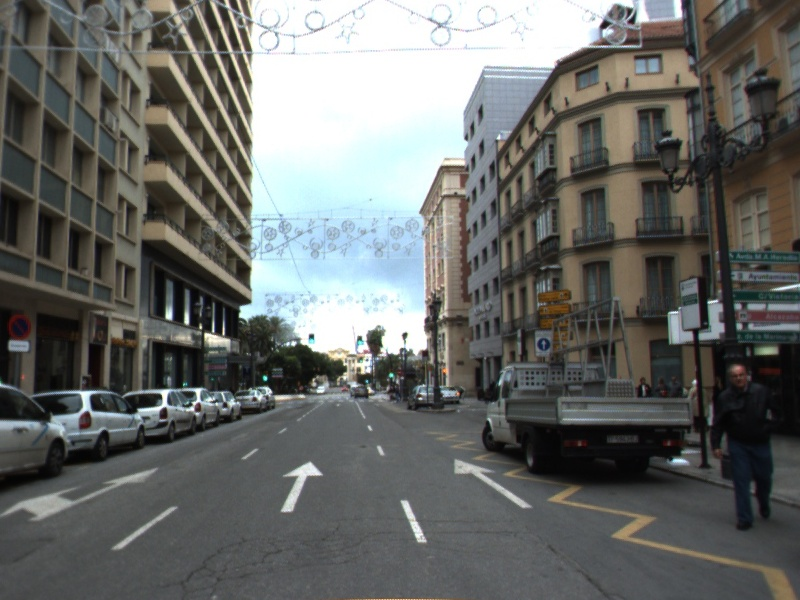STRAIGHT: (452, 456, 537, 511), (278, 459, 327, 515)
STRAIGHT_LEFT: (1, 465, 162, 523)
